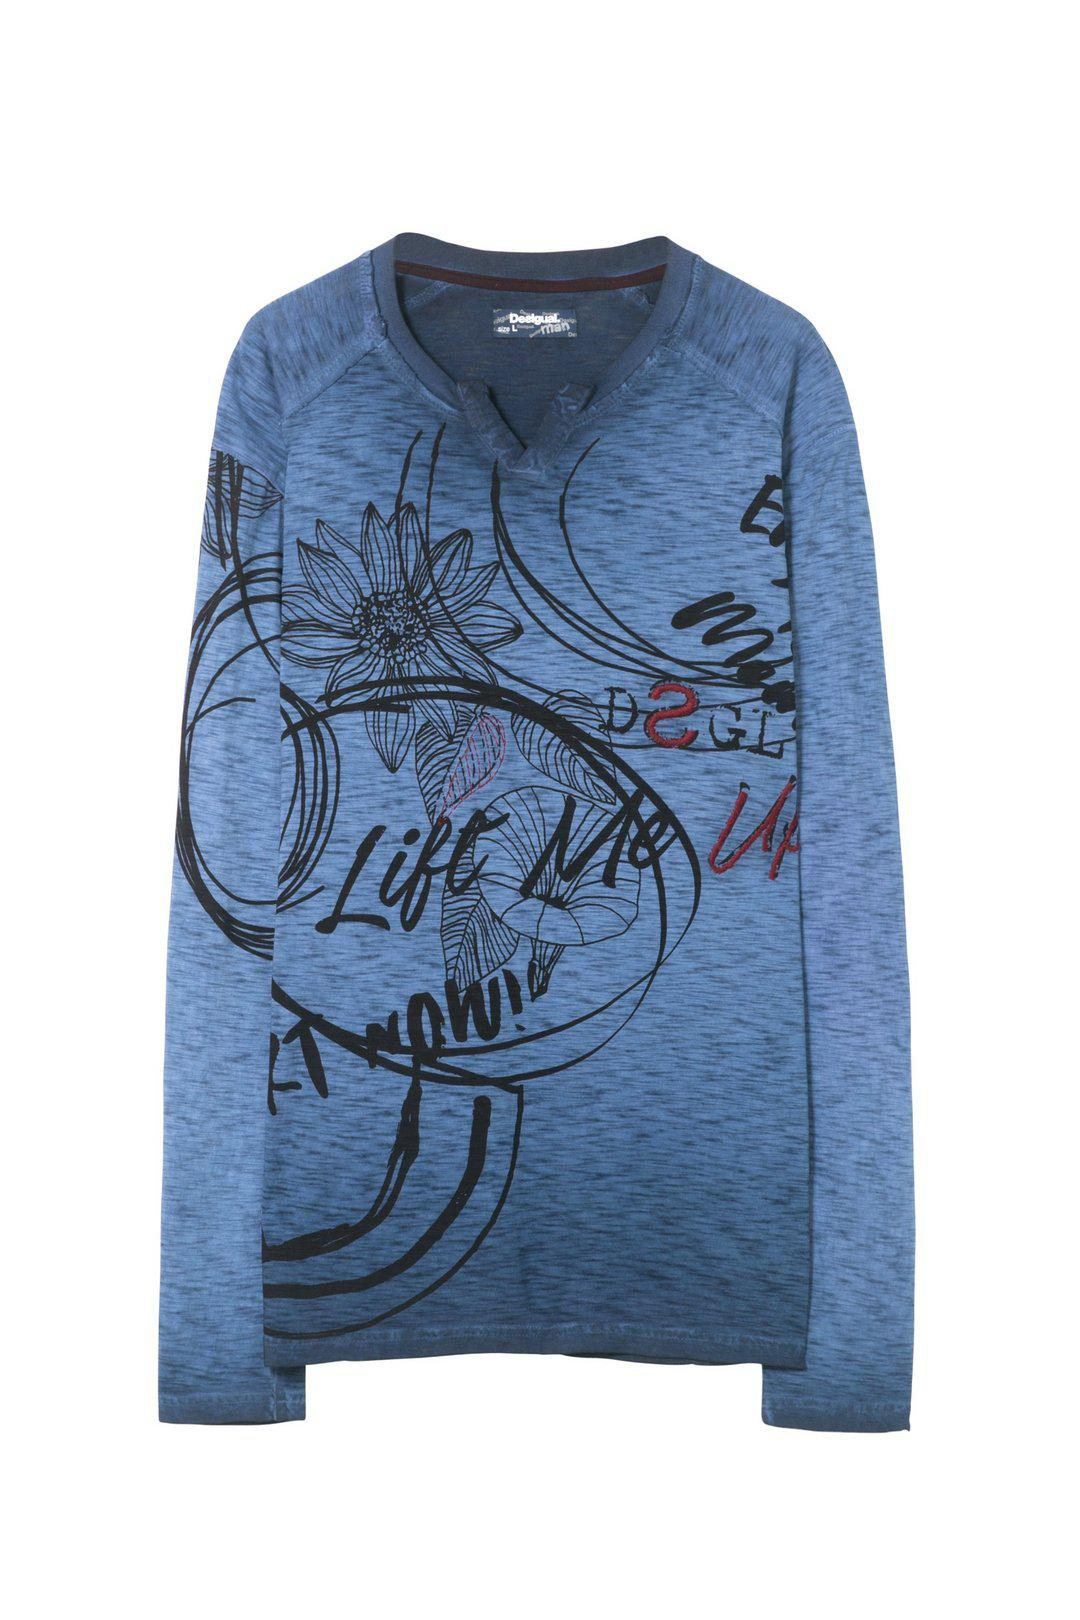teeshirt: (102, 215, 998, 1532)
